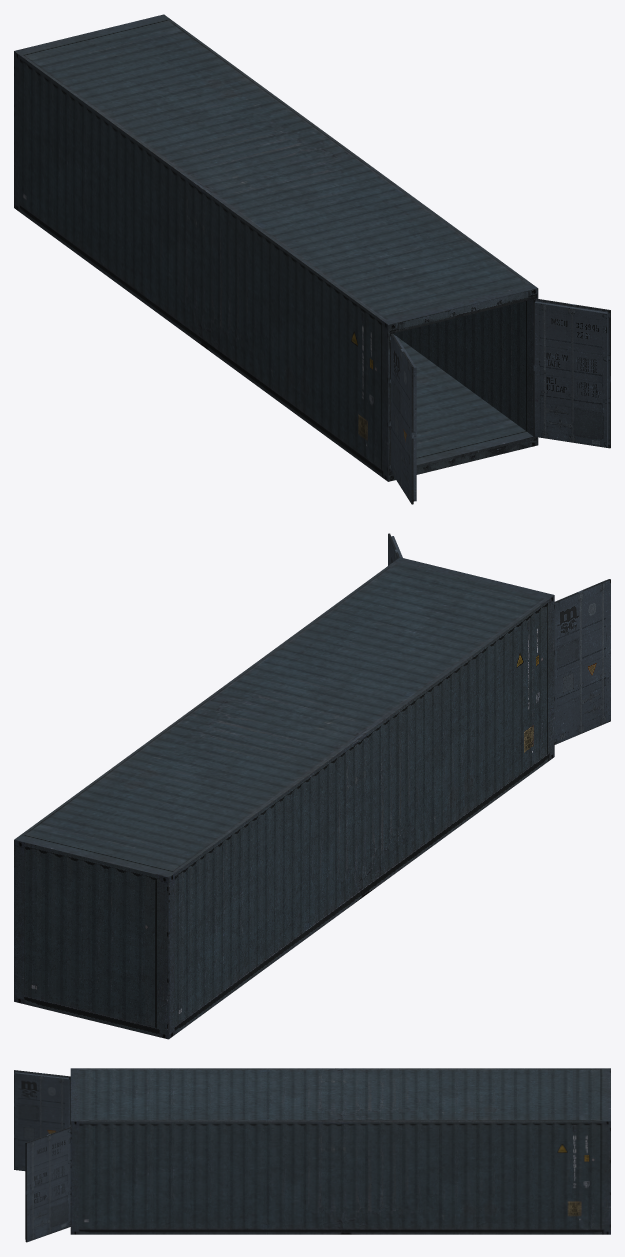
Rendered from shipping_container_mx_1_hollow_1_2.glb.
3 views of the same model, one above another, from view 1: azimuth 30°, elevation 25°; view 2: azimuth 150°, elevation 25°; view 3: azimuth 270°, elevation 25° (orthographic). The views are drawn at different scales.
Visible parts, largest first — view 1: shipping_container_mx_1_hollow_1_2; view 2: shipping_container_mx_1_hollow_1_2; view 3: shipping_container_mx_1_hollow_1_2.
Part boxes in pixels (<box>): shipping_container_mx_1_hollow_1_2: <box>14,14,610,504</box>; shipping_container_mx_1_hollow_1_2: <box>14,533,610,1039</box>; shipping_container_mx_1_hollow_1_2: <box>14,1068,610,1242</box>.
Bounding box in the file's own units: 3.46 × 2.5 × 11.94.
Materials: 1 (1 with a texture image).
